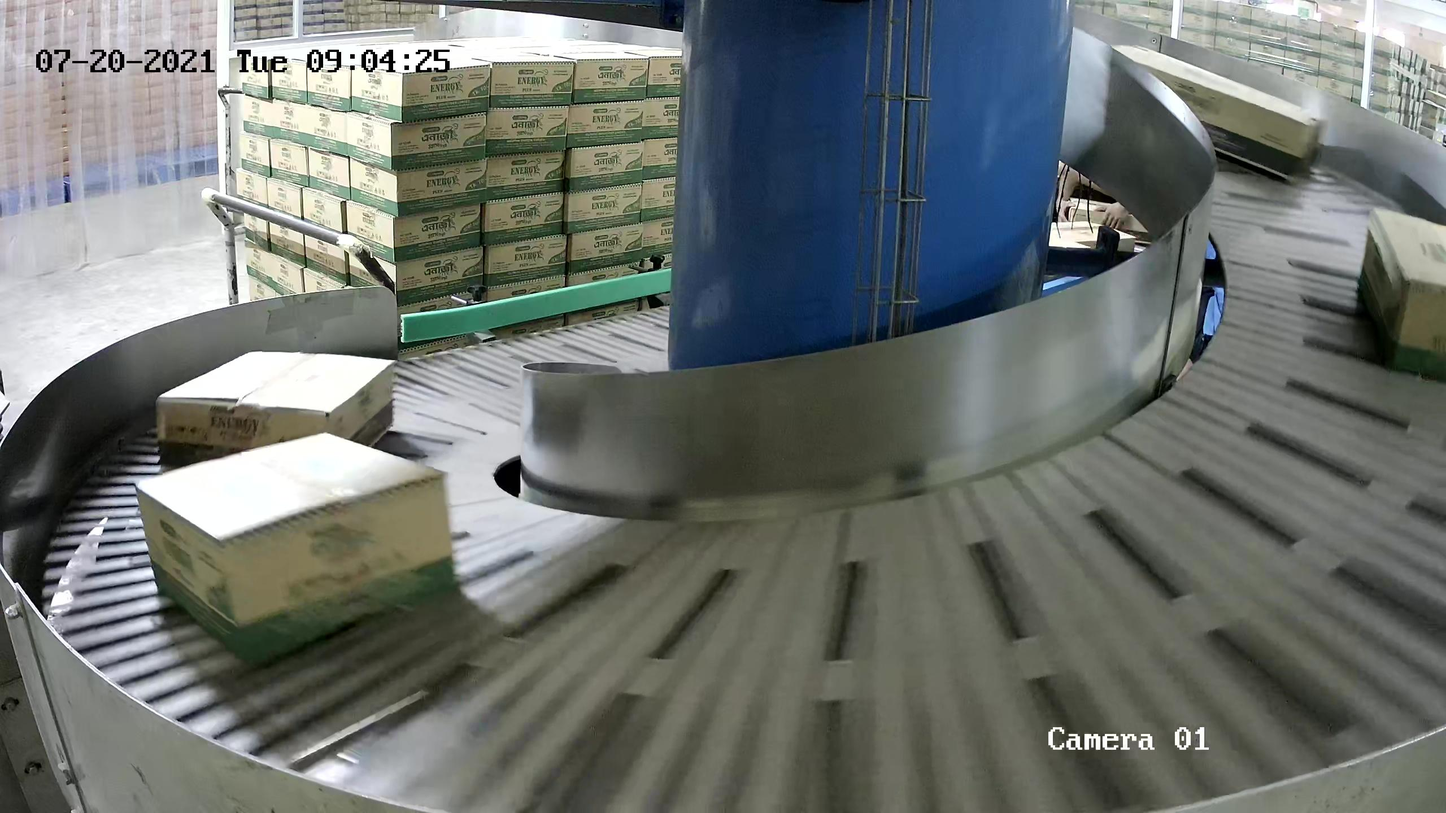Box: (138, 432, 458, 673), (1087, 41, 1329, 186), (155, 349, 394, 484), (1355, 204, 1446, 386)
